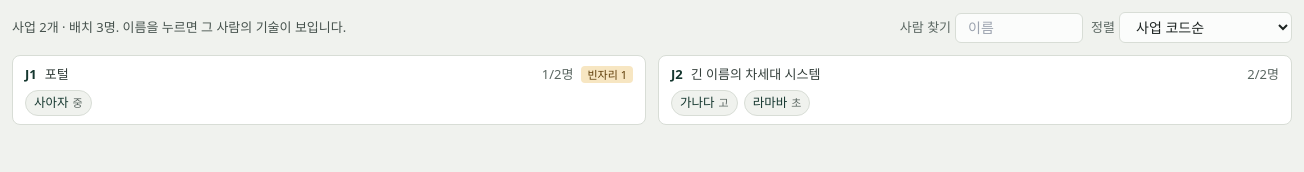
Test: 배치 명단 압축(사용자 2026-10-20) › 정렬을 바꾸면 사업 순서가 바뀌고, 이름을 찾으면 어디 있는지 알려 준다
Select "인원 많은 순" in the dropdown named "사업 정렬 기준" at (1206,28), box 1119,12 -> 1292,43
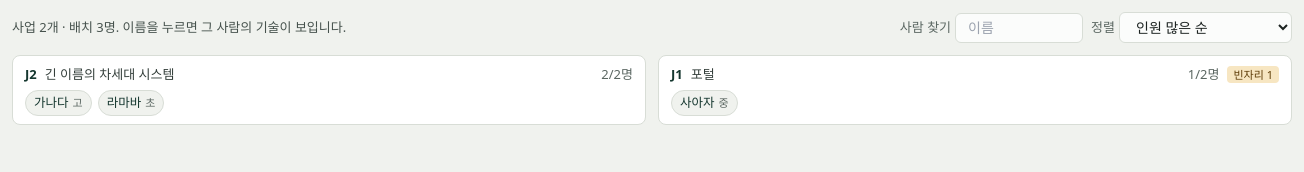
Select "끝나 가는 순" in the dropdown named "사업 정렬 기준" at (1206,28), box 1119,12 -> 1292,43
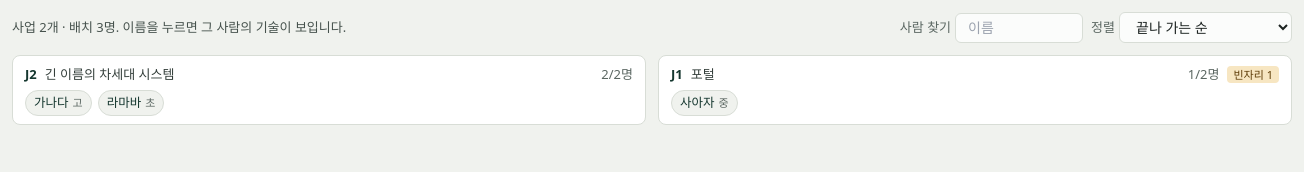
Type "사아" into the field named "배치 명단에서 사람 찾기" at (1019,28), box 955,12 -> 1083,42
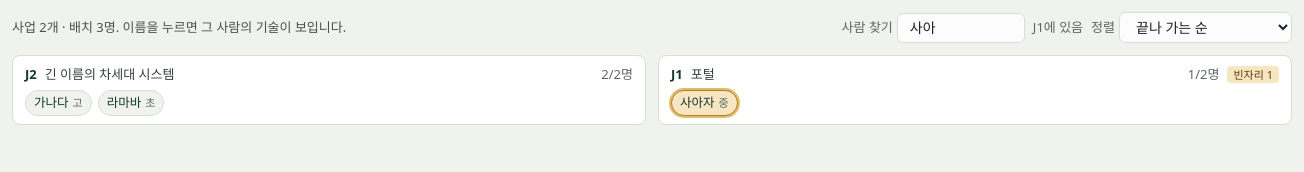
Result: the text "J1에 있음" is shown at 1033,17 -> 1083,38
Replace the text in the field named "배치 명단에서 사람 찾기" with "없는" at (961,28), box 897,12 -> 1025,42
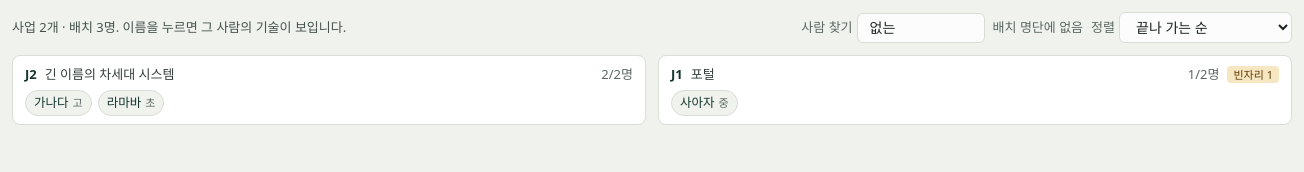
Result: the text "배치 명단에 없음" is shown at 993,17 -> 1083,38
